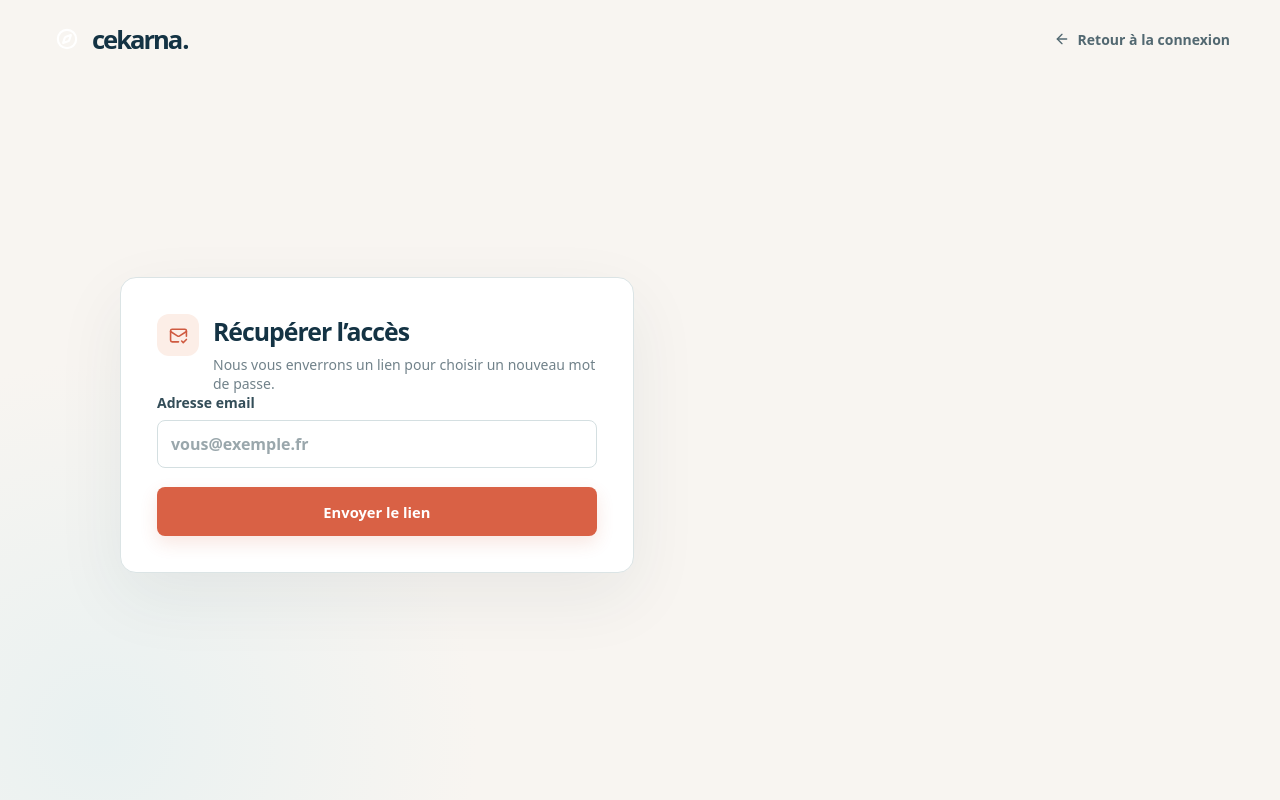
Test: Recover › surfaces the API error and keeps the form visible
expect the form is shown: met, box x1=157 y1=393 x2=597 y2=536
In the field named "email": (377, 444) x1=157 y1=420 x2=597 y2=468, type "moi@exemple.fr"
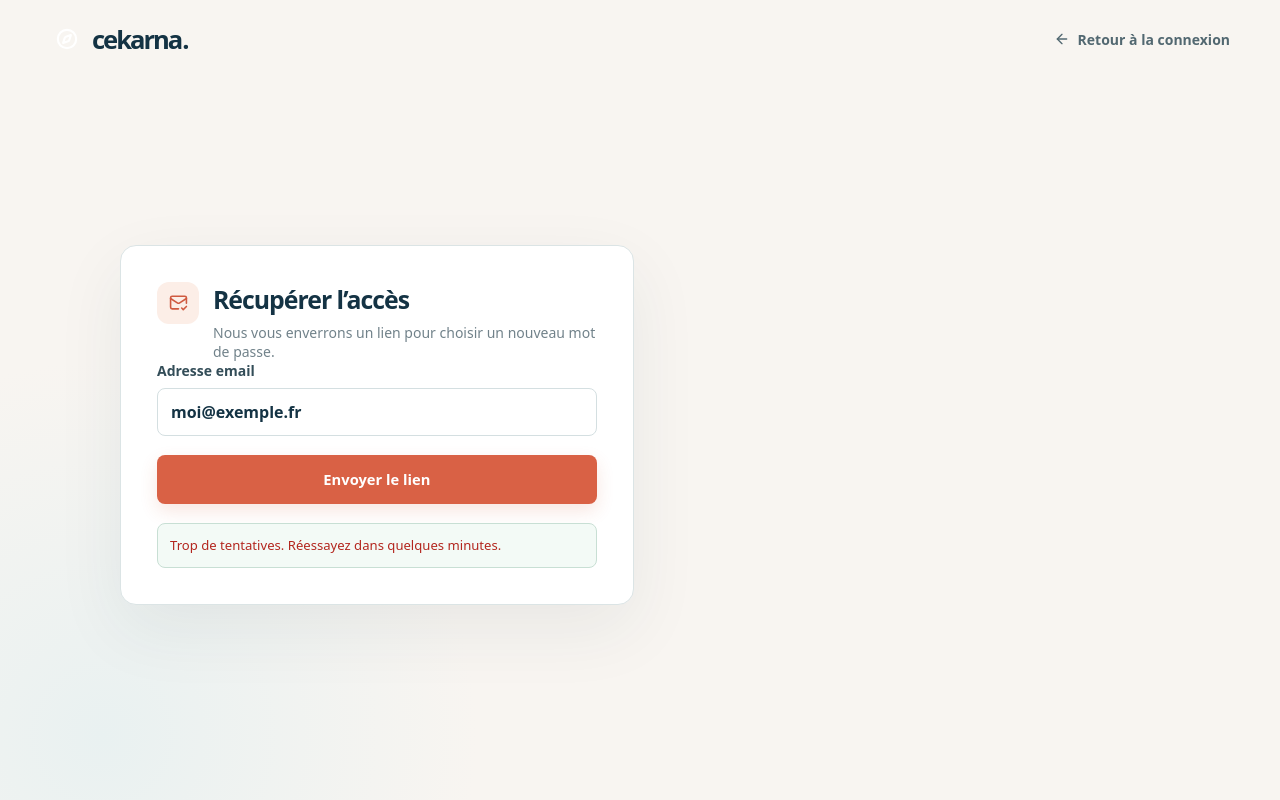
expect the form is shown: met, box x1=157 y1=361 x2=597 y2=568
expect the message "Trop de tentatives. Réessayez dans quelques minutes." is shown: met, box x1=157 y1=523 x2=597 y2=568
